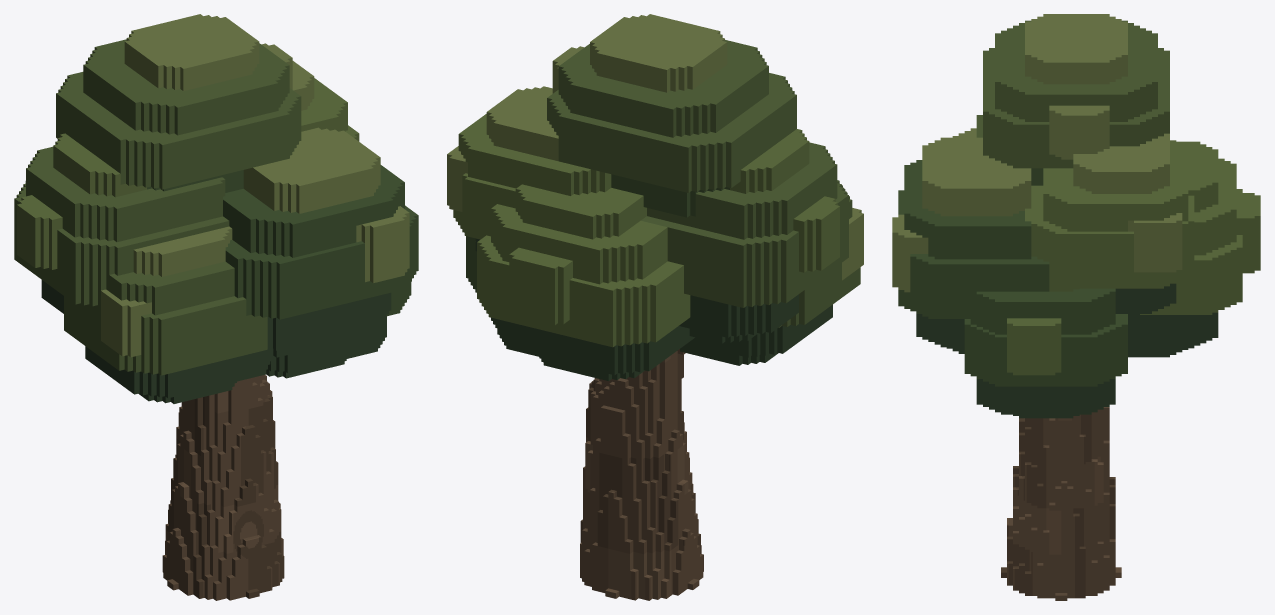
The model's file is oak_ancient.glb.
The picture shows the model from 3 angles, left to right: view 1: azimuth 30°, elevation 25°; view 2: azimuth 150°, elevation 25°; view 3: azimuth 270°, elevation 25°; orthographic projection. The views are drawn at different scales.
Parts seen in each view (by area): view 1: VoxelVisual; view 2: VoxelVisual; view 3: VoxelVisual.
Boxes of the visible parts, bbox=[...] form: VoxelVisual: bbox=[14, 14, 418, 600]; VoxelVisual: bbox=[447, 14, 863, 600]; VoxelVisual: bbox=[892, 14, 1260, 600].
Size of what is drawn, in the model's own units: 16.75 by 24 by 15.25.
